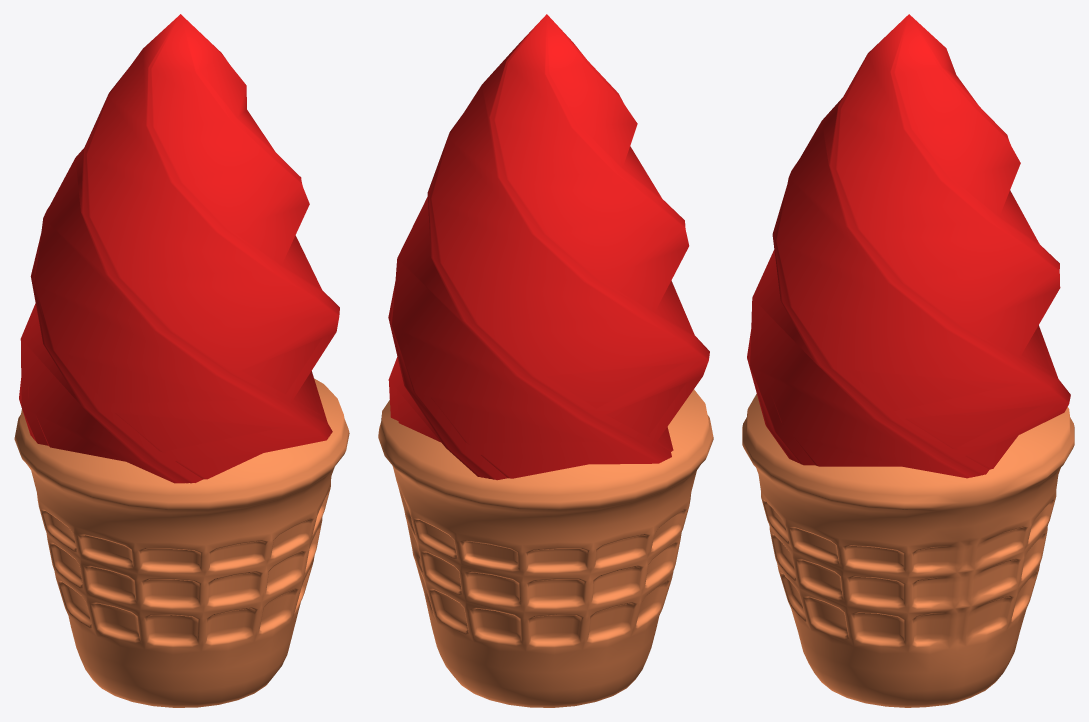
Rendered from Eis.fbx.
3 renders of one model, left to right at view 1: azimuth 30°, elevation 25°; view 2: azimuth 150°, elevation 25°; view 3: azimuth 270°, elevation 25°, orthographic.
Visible parts, largest first — view 1: Gengon001, Cylinder001, Gengon002; view 2: Gengon001, Cylinder001, Gengon002; view 3: Gengon001, Cylinder001, Gengon002.
Boxes of the visible parts, x1,y1,x2,y2 form: Gengon001: [19, 14, 339, 483]; Cylinder001: [14, 378, 349, 707]; Gengon002: [28, 312, 321, 479]; Gengon001: [388, 14, 709, 480]; Cylinder001: [378, 389, 713, 707]; Gengon002: [396, 332, 686, 478]; Gengon001: [747, 14, 1070, 478]; Cylinder001: [742, 394, 1074, 707]; Gengon002: [757, 305, 1051, 469].
Bounding box in the file's own units: 266 × 575 × 264.
